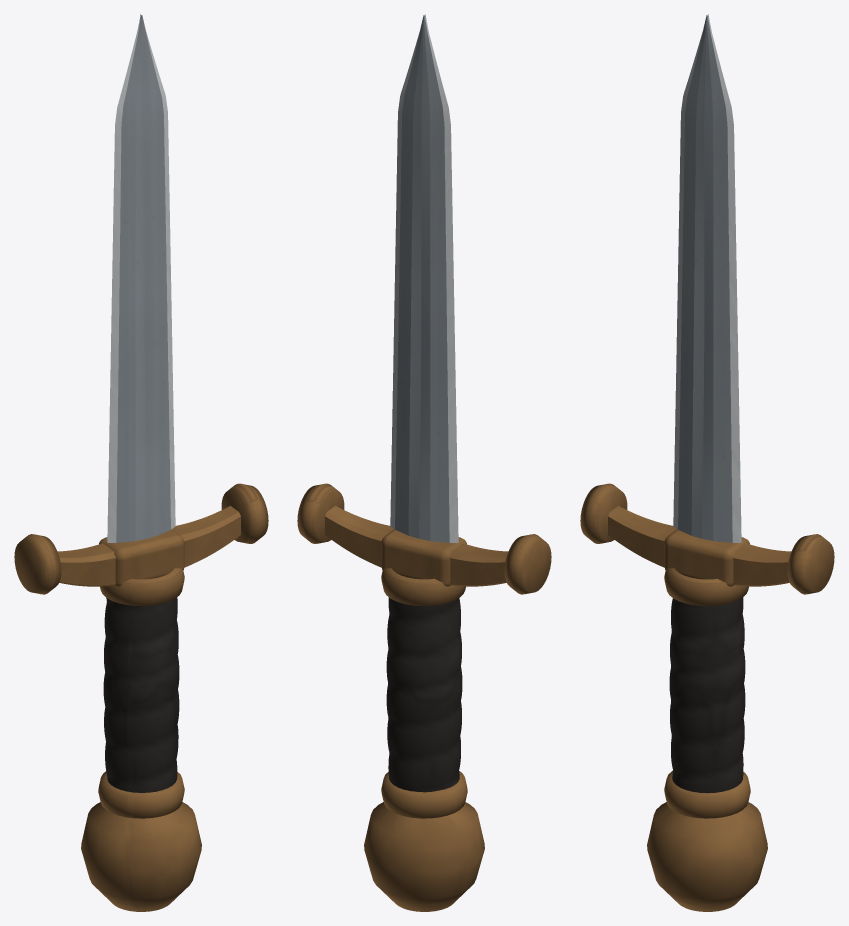
Rendered from dagger.glb.
3 views of the same model, side by side, from view 1: azimuth 30°, elevation 25°; view 2: azimuth 150°, elevation 25°; view 3: azimuth 330°, elevation 25° (orthographic).
Visible parts, largest first — view 1: bronze / cast bronze with patina, steel / forged blade steel, leather / oiled leather wrap, edge / honed bright bevel; view 2: bronze / cast bronze with patina, steel / forged blade steel, leather / oiled leather wrap, edge / honed bright bevel; view 3: bronze / cast bronze with patina, steel / forged blade steel, leather / oiled leather wrap, edge / honed bright bevel.
Part boxes in pixels (bbox=[...]): bronze / cast bronze with patina: bbox=[14, 483, 268, 911]; steel / forged blade steel: bbox=[116, 14, 170, 542]; leather / oiled leather wrap: bbox=[103, 597, 179, 792]; edge / honed bright bevel: bbox=[107, 15, 175, 542]; bronze / cast bronze with patina: bbox=[297, 483, 551, 911]; steel / forged blade steel: bbox=[395, 14, 449, 542]; leather / oiled leather wrap: bbox=[386, 597, 462, 792]; edge / honed bright bevel: bbox=[390, 15, 458, 542]; bronze / cast bronze with patina: bbox=[580, 483, 834, 911]; steel / forged blade steel: bbox=[678, 14, 732, 542]; leather / oiled leather wrap: bbox=[669, 597, 745, 793]; edge / honed bright bevel: bbox=[673, 15, 741, 542].
Size of the model in its own units: 0.11 by 0.41 by 0.0507.
4 materials, 4 textured.
